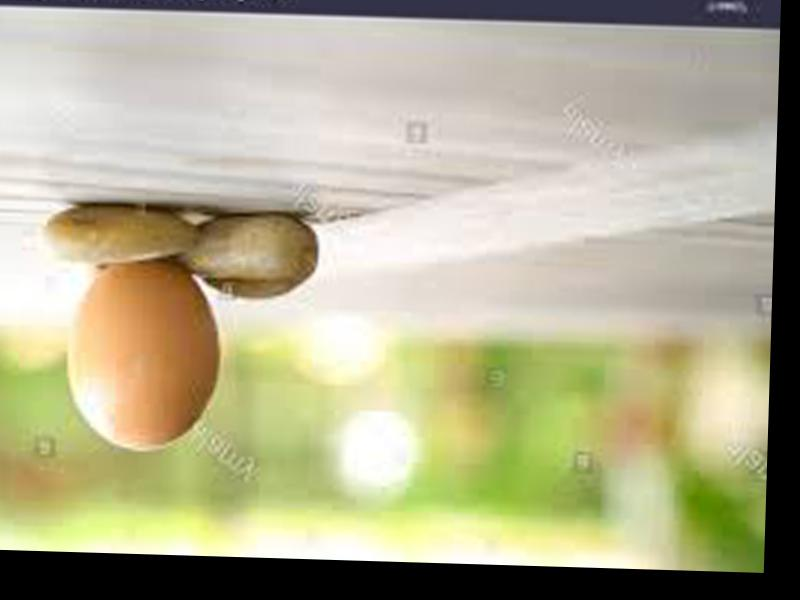Eggs: (62, 257, 223, 449)
